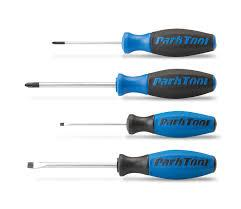screwdriver: (24, 67, 216, 97), (26, 148, 215, 178), (51, 27, 216, 56), (58, 108, 216, 137)
